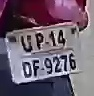1: (49, 31, 57, 49)
2: (53, 56, 62, 74)
4: (56, 29, 67, 48)
6: (66, 50, 78, 71)
7: (60, 53, 68, 74)
9: (43, 57, 54, 76)
D: (21, 61, 33, 79)
F: (31, 59, 41, 77)
P: (35, 33, 44, 50)
U: (19, 34, 34, 54)
